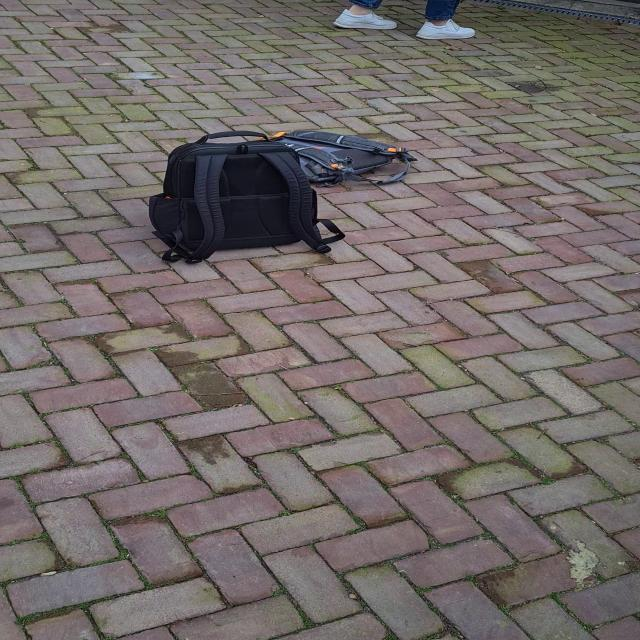backpack: (138, 125, 326, 263), (262, 124, 416, 193)
